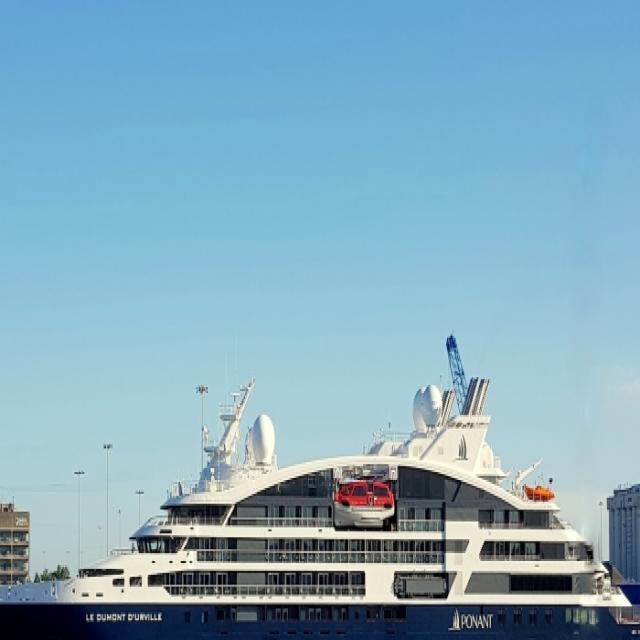cruises: (1, 339, 640, 640)
